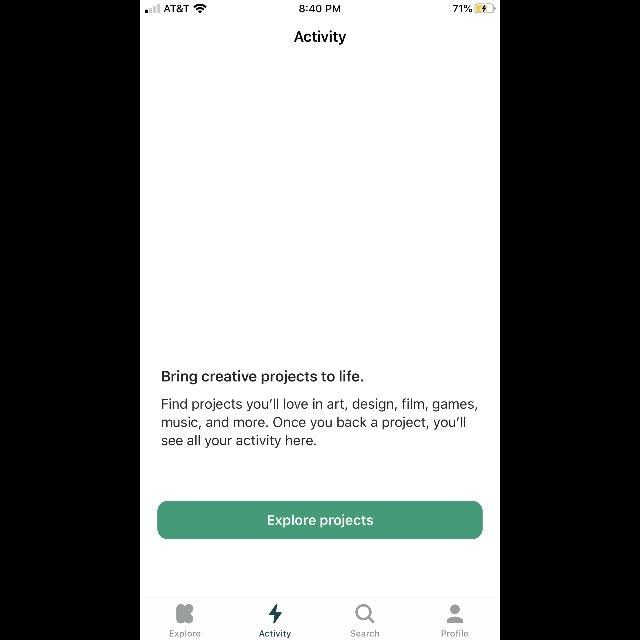icon: (355, 604, 375, 624), (447, 604, 463, 624)
image: (176, 604, 194, 624), (270, 604, 282, 624)
text: (162, 398, 478, 448), (162, 370, 364, 384), (294, 31, 346, 45), (259, 630, 291, 638), (170, 630, 200, 638), (351, 630, 379, 636), (442, 630, 468, 636)
textbutton: (158, 501, 482, 539)
uppertaskbar: (140, 0, 500, 14)
